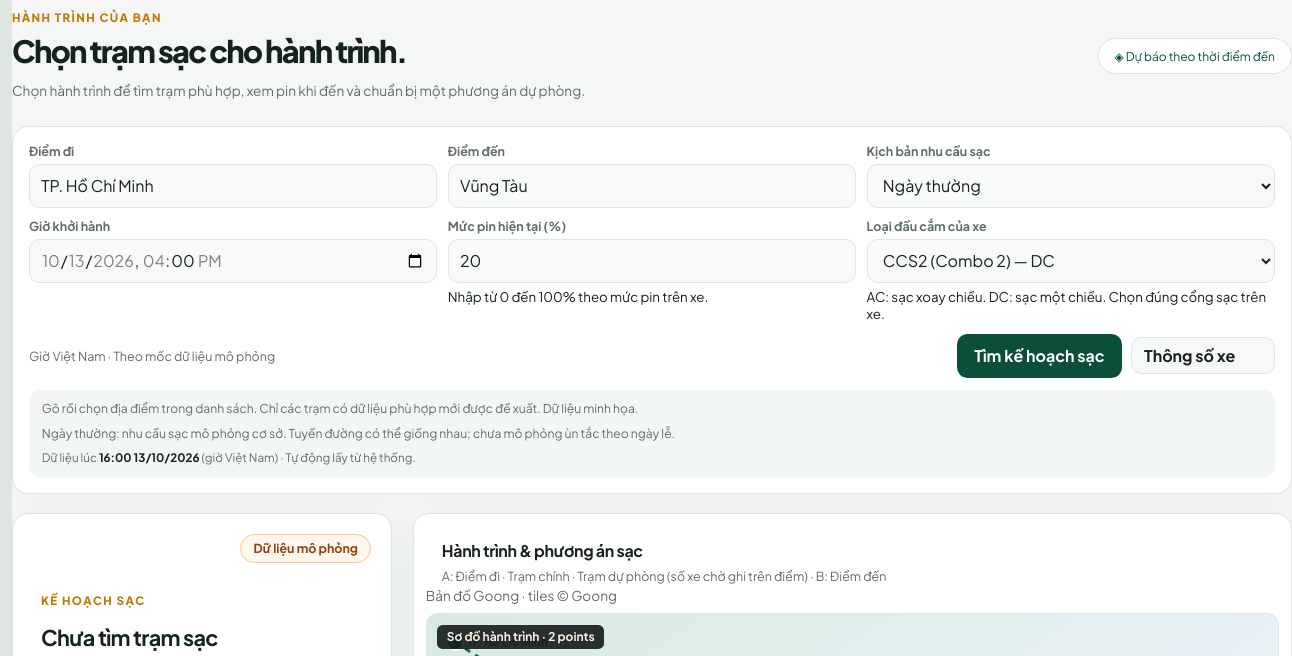
DriverPage › labels the directory source before submit and the prediction source afterwards
Expected: the text "Dữ liệu mô phỏng" is shown, [240,534,371,563]
Step 1. Click the button "Tìm kế hoạch sạc" → [1039, 356], box [957,334,1122,378]
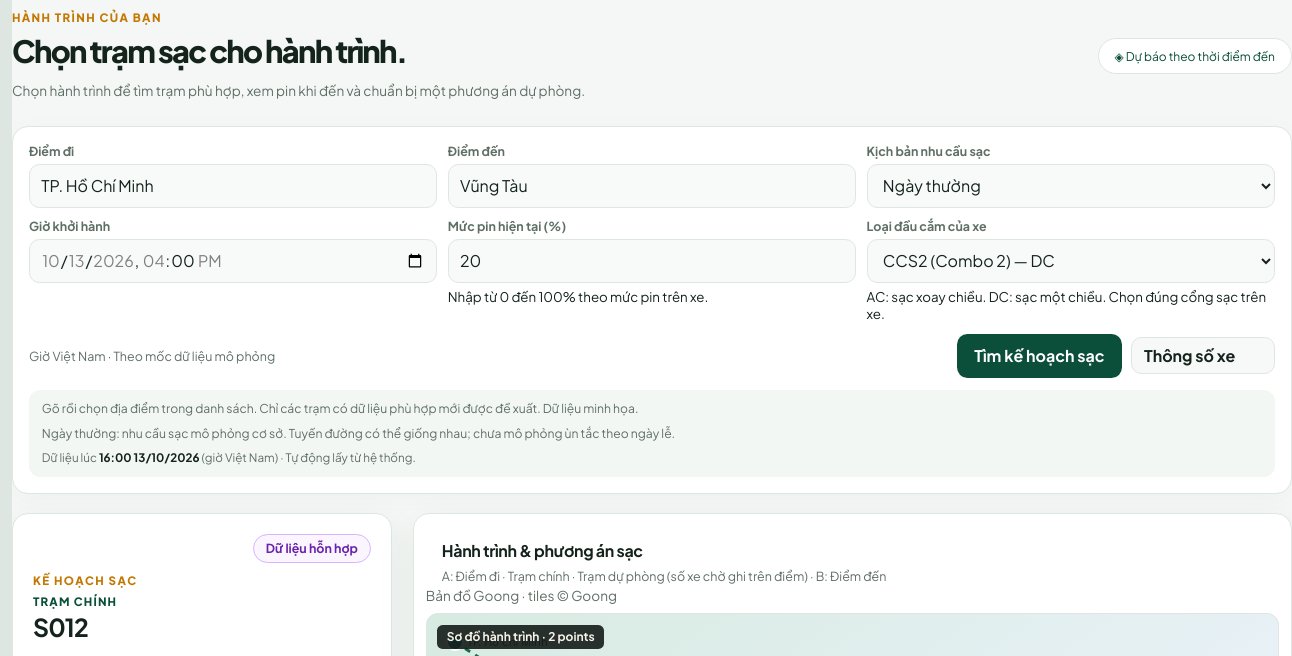
Result: the text "Dữ liệu hỗn hợp" is shown at [253,534,371,563]
